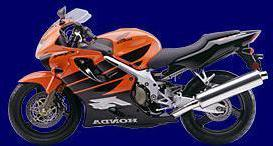motorcycle: (2, 6, 273, 146)
